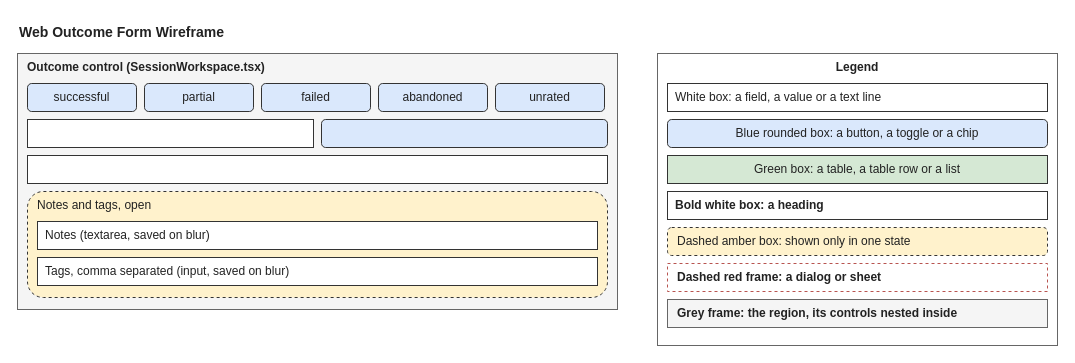
The diagram is 1075 pixels wide and 363 high, and some of its shapes have lost their labels. The centre of each missing label's shape, as x and y in pixels:
"info glyph: rating meanings" goes at (170,133).
"Notes and tags" goes at (464,133).
"status: saving, error, rated time or not rated yet; signals" goes at (317,169).
